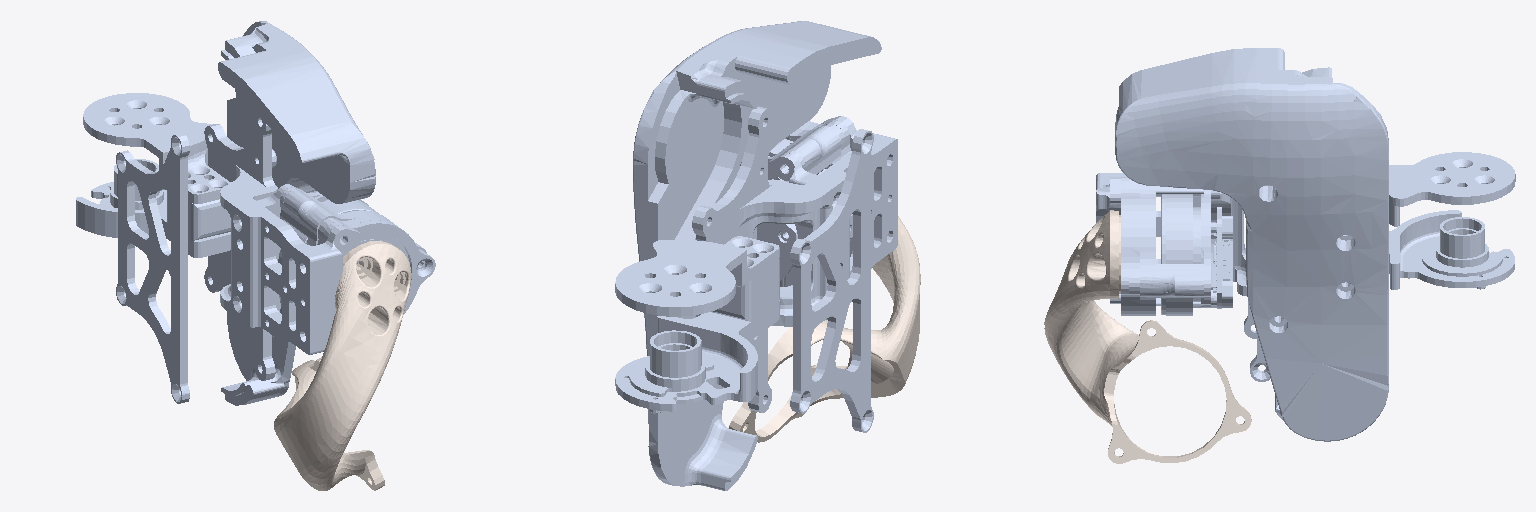
URDF robot description (Thumb1):
<?xml version="1.0" encoding="utf-8"?>
<!-- This URDF was automatically created by SolidWorks to URDF Exporter! Originally created by Stephen Brawner (brawner@gmail.com) 
     Commit Version: 1.6.0-1-g15f4949  Build Version: 1.6.7594.29634
     For more information, please see http://wiki.ros.org/sw_urdf_exporter -->
<robot
  name="Thumb1">
  <link
    name="base_link">
    <inertial>
      <origin
        xyz="0.0101229197241493 0.000317480446782459 0.0590351023176954"
        rpy="0 0 0" />
      <mass
        value="0.178215492162628" />
      <inertia
        ixx="9.99344230170038E-05"
        ixy="5.93980031360355E-07"
        ixz="3.45975466620314E-06"
        iyy="5.48489921903895E-05"
        iyz="-1.15526310127808E-05"
        izz="6.32019445615828E-05" />
    </inertial>
    <visual>
      <origin
        xyz="0 0 0"
        rpy="0 0 0" />
      <geometry>
        <mesh
          filename="package://Thumb1/meshes/base_link.STL" />
      </geometry>
      <material
        name="">
        <color
          rgba="0.866666666666667 0.909803921568627 1 1" />
      </material>
    </visual>
    <collision>
      <origin
        xyz="0 0 0"
        rpy="0 0 0" />
      <geometry>
        <mesh
          filename="package://Thumb1/meshes/base_link.STL" />
      </geometry>
    </collision>
  </link>
  <link
    name="thumb_metacarpal">
    <inertial>
      <origin
        xyz="-0.0101741542845212 -0.0238342677446721 0.0429255753913002"
        rpy="0 0 0" />
      <mass
        value="0.0530314819897991" />
      <inertia
        ixx="2.38080391779939E-05"
        ixy="-4.78998853040675E-06"
        ixz="1.51341577430087E-06"
        iyy="8.92460142448764E-06"
        iyz="-1.44296317994129E-06"
        izz="2.40236530796874E-05" />
    </inertial>
    <visual>
      <origin
        xyz="0 0 0"
        rpy="0 0 0" />
      <geometry>
        <mesh
          filename="package://Thumb1/meshes/thumb_metacarpal.STL" />
      </geometry>
      <material
        name="">
        <color
          rgba="1 0.956862745098039 0.929411764705882 1" />
      </material>
    </visual>
    <collision>
      <origin
        xyz="0 0 0"
        rpy="0 0 0" />
      <geometry>
        <mesh
          filename="package://Thumb1/meshes/thumb_metacarpal.STL" />
      </geometry>
    </collision>
  </link>
  <joint
    name="joint_thumb_CMC"
    type="continuous">
    <origin
      xyz="0.0185000000000002 -0.0596543963098107 -0.00499999999999927"
      rpy="1.5707963267949 0.0435718157687133 0" />
    <parent
      link="base_link" />
    <child
      link="thumb_metacarpal" />
    <axis
      xyz="0 0 1" />
  </joint>
</robot>

--- Render facts (derived) ---
3 views of the same robot in one strip: view 1: azimuth 30°, elevation 25°; view 2: azimuth 150°, elevation 25°; view 3: azimuth 270°, elevation 25° (orthographic).
Robot: Thumb1 — 2 links, 1 joints (1 continuous); root link base_link; default pose: all joints at 0.
Visible links, largest first — view 1: base_link, thumb_metacarpal; view 2: base_link, thumb_metacarpal; view 3: base_link, thumb_metacarpal.
Link boxes in pixels (<box>): base_link: <box>76,21,435,405</box>; thumb_metacarpal: <box>274,241,411,490</box>; base_link: <box>615,21,897,490</box>; thumb_metacarpal: <box>729,216,920,442</box>; base_link: <box>1096,48,1515,441</box>; thumb_metacarpal: <box>1044,210,1251,463</box>.
Bounding box of the posed robot: 0.0634 × 0.1333 × 0.119 m (x, y, z).
2 mesh visuals loaded from 2 distinct referenced files (2 binary STL).
